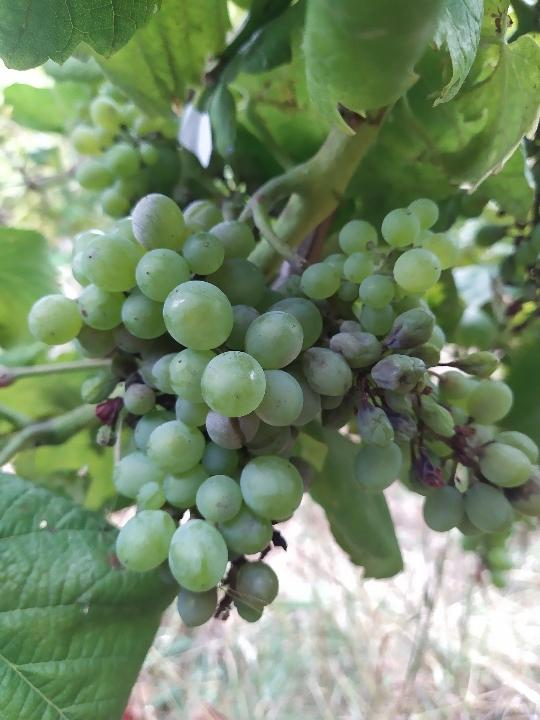grape: (26, 189, 523, 632)
